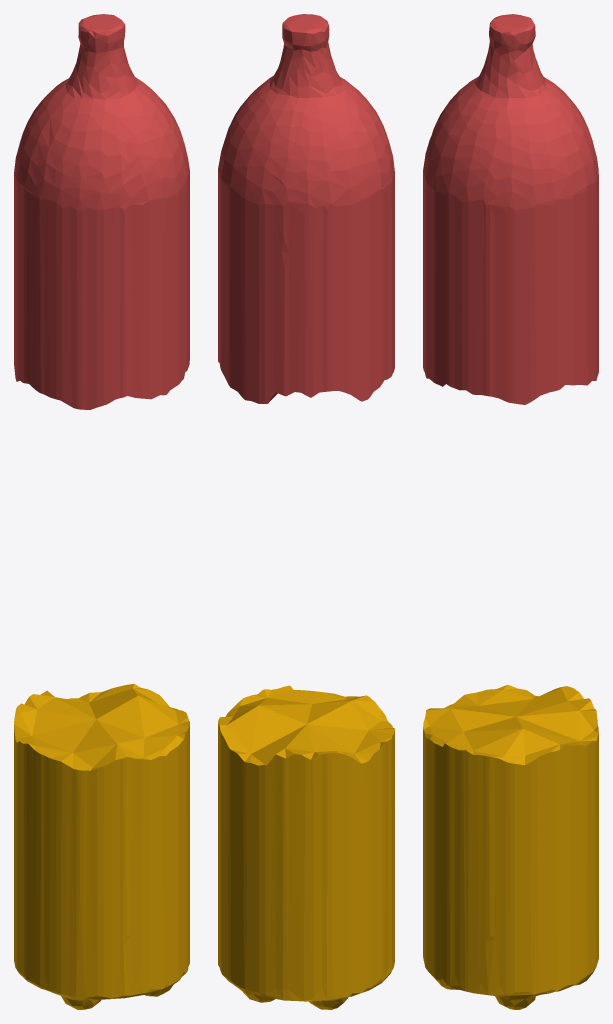
The model's file is fractured_75_2pcs_transformed.glb.
3 renders of one model, left to right at view 1: azimuth 30°, elevation 25°; view 2: azimuth 150°, elevation 25°; view 3: azimuth 270°, elevation 25°, orthographic.
Visible parts, largest first — view 1: piece_1.obj, piece_0.obj; view 2: piece_1.obj, piece_0.obj; view 3: piece_1.obj, piece_0.obj.
Part boxes in pixels (left/top/right/bottom): piece_1.obj: left=14, top=14, right=189, bottom=409; piece_0.obj: left=14, top=683, right=189, bottom=1009; piece_1.obj: left=218, top=14, right=394, bottom=403; piece_0.obj: left=218, top=685, right=394, bottom=1009; piece_1.obj: left=423, top=14, right=598, bottom=404; piece_0.obj: left=423, top=685, right=598, bottom=1009.
Bounding box in the file's own units: 0.2653 × 1.6 × 0.2653.
